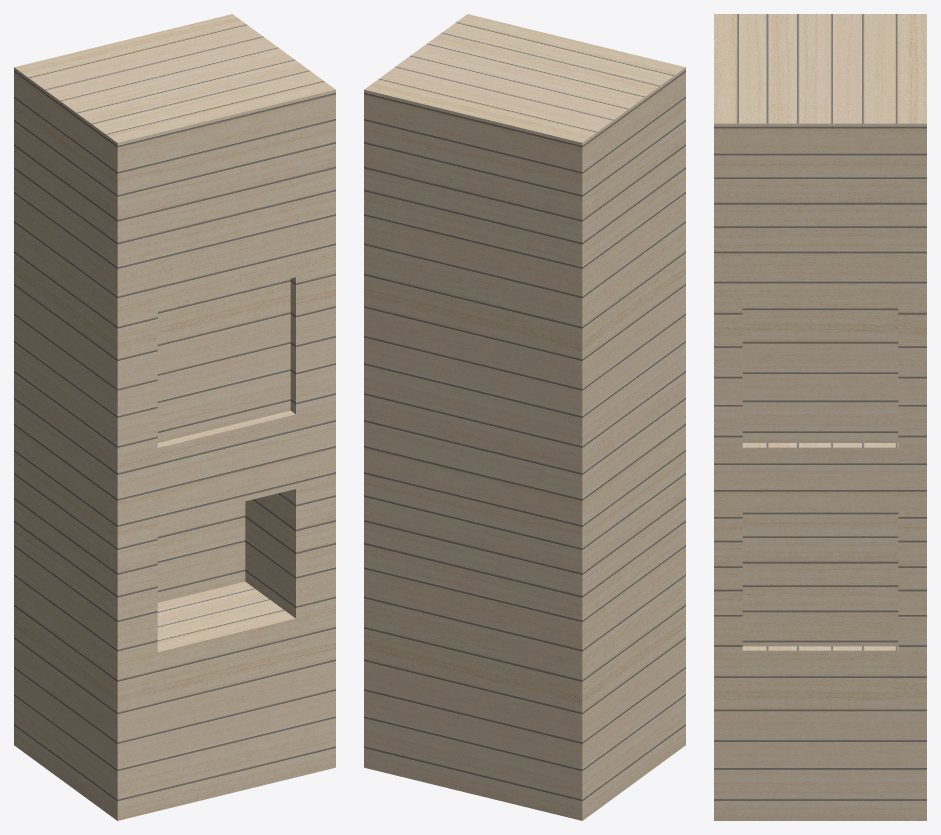
The model's file is Gallery_Pillar02.FBX.
3 views of the same model, side by side, from view 1: azimuth 30°, elevation 25°; view 2: azimuth 150°, elevation 25°; view 3: azimuth 270°, elevation 25° (orthographic). The views are drawn at different scales.
Parts seen in each view (by area): view 1: Gallery_Pillar02; view 2: Gallery_Pillar02; view 3: Gallery_Pillar02.
Boxes of the visible parts, x1,y1,x2,y2 form: Gallery_Pillar02: (14, 14, 335, 820); Gallery_Pillar02: (364, 14, 685, 820); Gallery_Pillar02: (714, 14, 926, 820).
Size of the model in its own units: 59.06 by 48.43 by 175.
